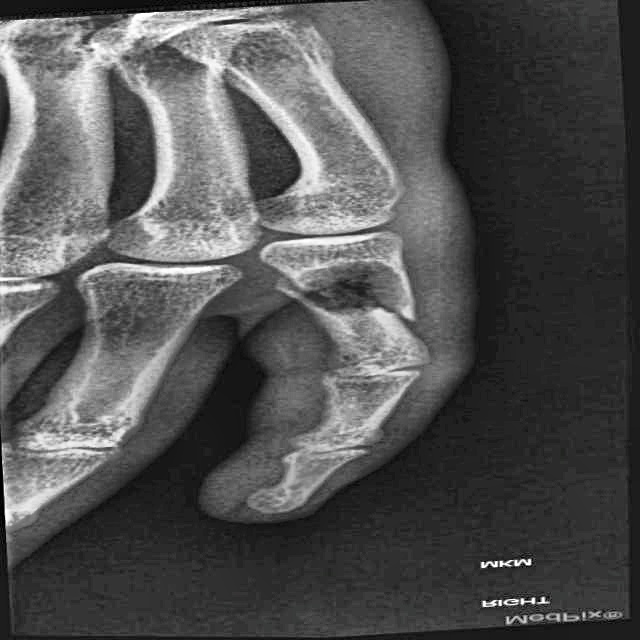Greenstick: (245, 234, 460, 343)
